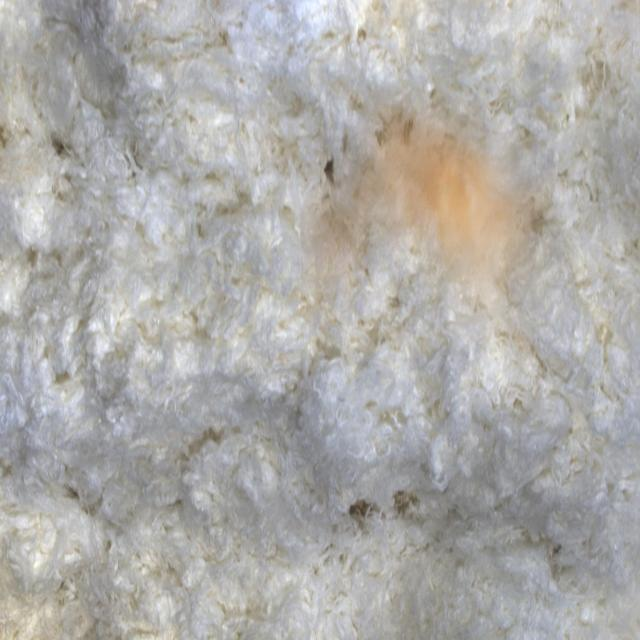dust: (301, 90, 565, 344)
